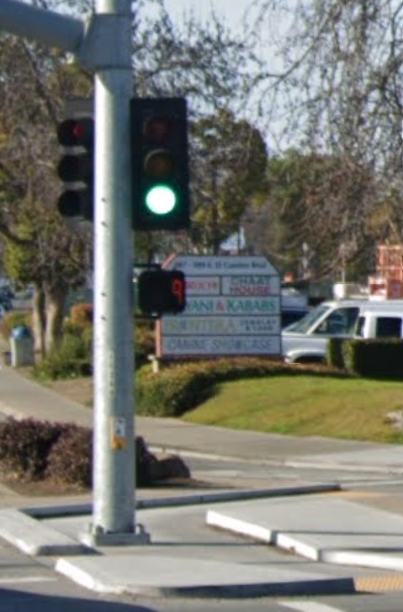green_light: (134, 101, 188, 230)
